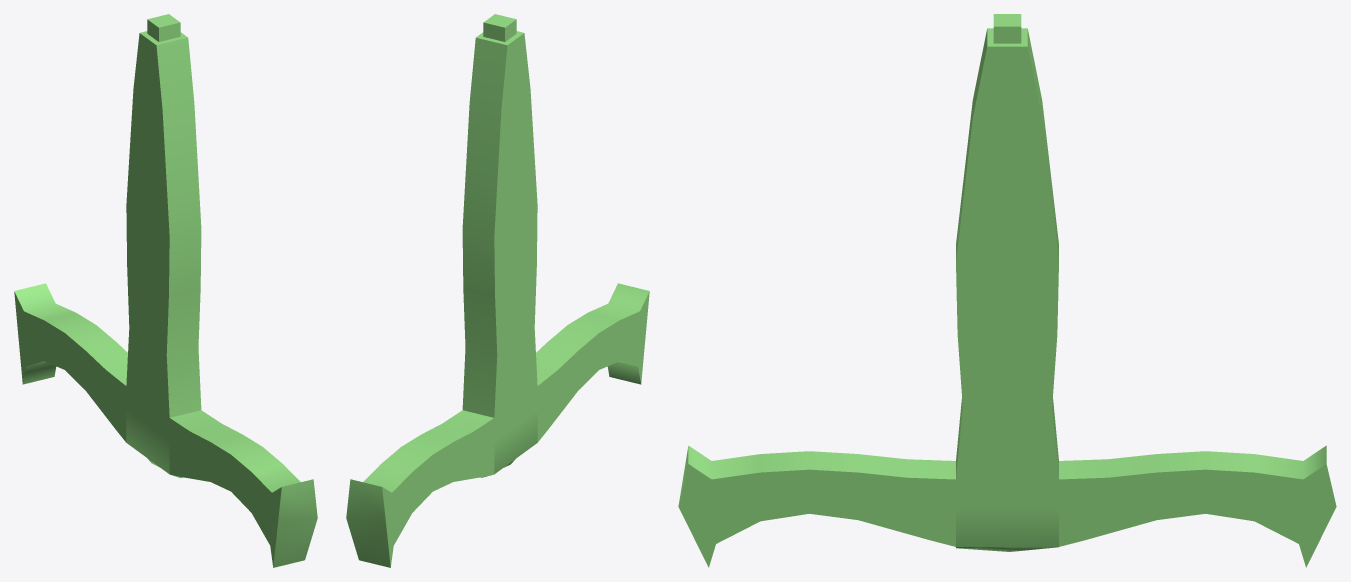
The picture shows the model from 3 angles, left to right: view 1: azimuth 30°, elevation 25°; view 2: azimuth 150°, elevation 25°; view 3: azimuth 270°, elevation 25°; orthographic projection. The views are drawn at different scales.
Parts seen in each view (by area): view 1: polySurface2; view 2: polySurface2; view 3: polySurface2.
Boxes of the visible parts, left/top/right/bottom form: polySurface2: left=14, top=14, right=317, bottom=567; polySurface2: left=346, top=14, right=649, bottom=567; polySurface2: left=678, top=14, right=1336, bottom=567.
Bounding box in the file's own units: 0.424 × 5.76 × 6.38.
